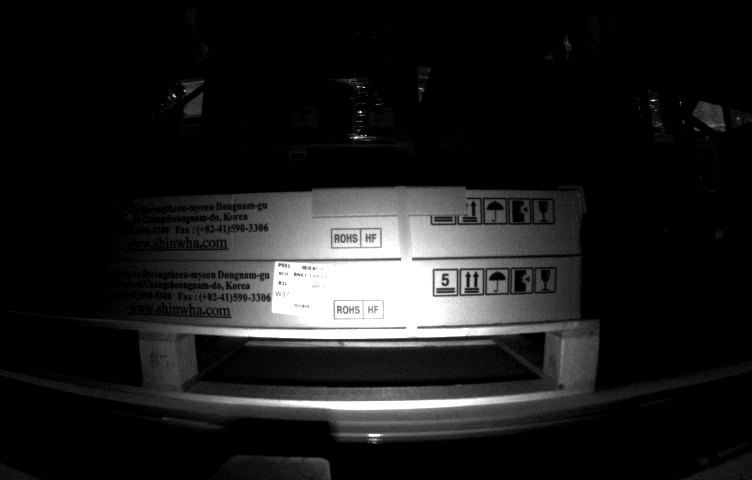True Barcode: (270, 262, 331, 317)
